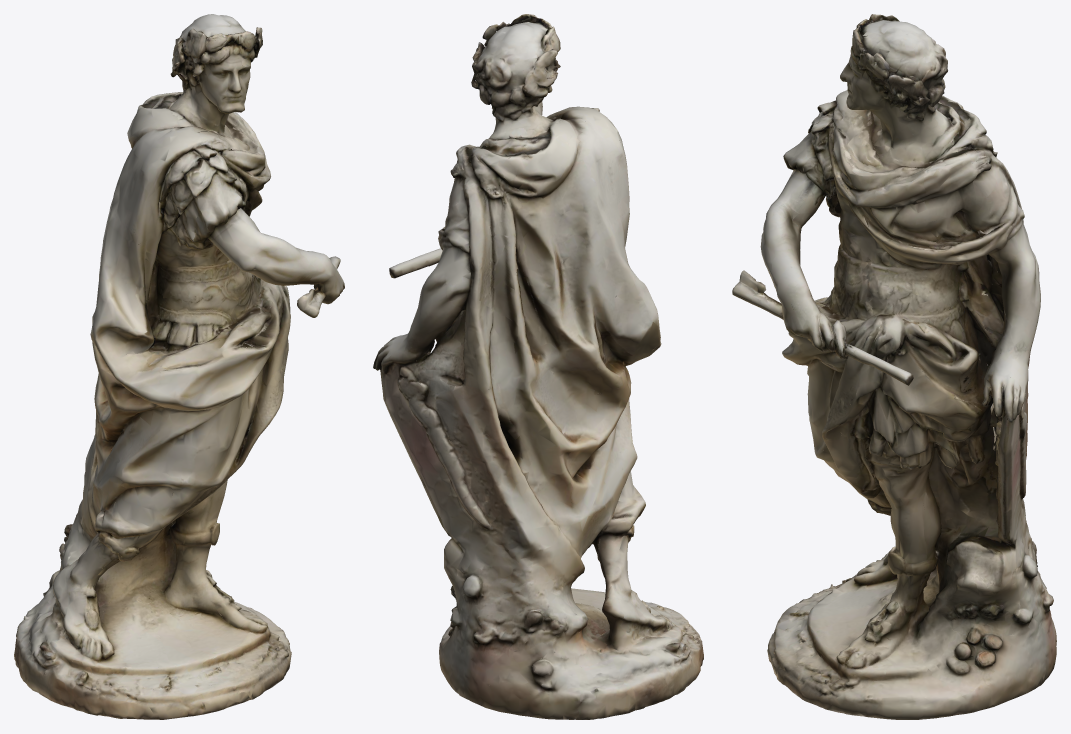
File: caesar-46k.glb
3 views of the same model, side by side, from view 1: azimuth 30°, elevation 25°; view 2: azimuth 150°, elevation 25°; view 3: azimuth 270°, elevation 25° (orthographic). The views are drawn at different scales.
Visible parts, largest first — view 1: CAESAR-mesh; view 2: CAESAR-mesh; view 3: CAESAR-mesh.
Boxes of the visible parts, box(x1,y1,x2,y2) form: CAESAR-mesh: box(14, 14, 344, 719); CAESAR-mesh: box(373, 14, 703, 719); CAESAR-mesh: box(732, 14, 1056, 719).
Bounding box in the file's own units: 0.9581 × 1.9 × 0.8386.
Materials: 1 (1 with a texture image).
